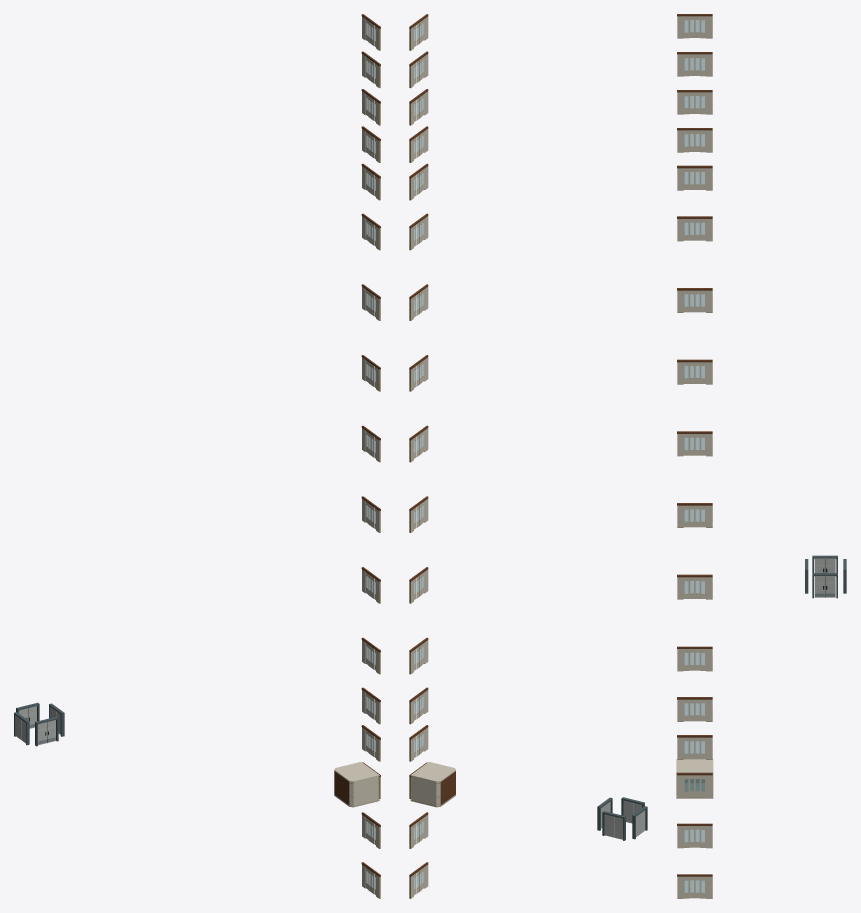
The model's file is AST-STF-G3-031.glb.
3 views of the same model, side by side, from view 1: azimuth 30°, elevation 25°; view 2: azimuth 150°, elevation 25°; view 3: azimuth 270°, elevation 25° (orthographic).
Parts seen in each view (by area): view 1: SourceCabinAtD03__CAB_ivory_enamel; view 2: SourceCabinAtD03__CAB_ivory_enamel; view 3: SourceCabinAtD03__CAB_ivory_enamel.
Boxes of the visible parts, x1,y1,x2,y2 form: SourceCabinAtD03__CAB_ivory_enamel: [334, 762, 379, 805]; SourceCabinAtD03__CAB_ivory_enamel: [410, 762, 455, 805]; SourceCabinAtD03__CAB_ivory_enamel: [676, 759, 713, 796].
Bounding box in the file's own units: 36.2 × 105 × 18.32.
Materials: 16 (14 with a texture image).
